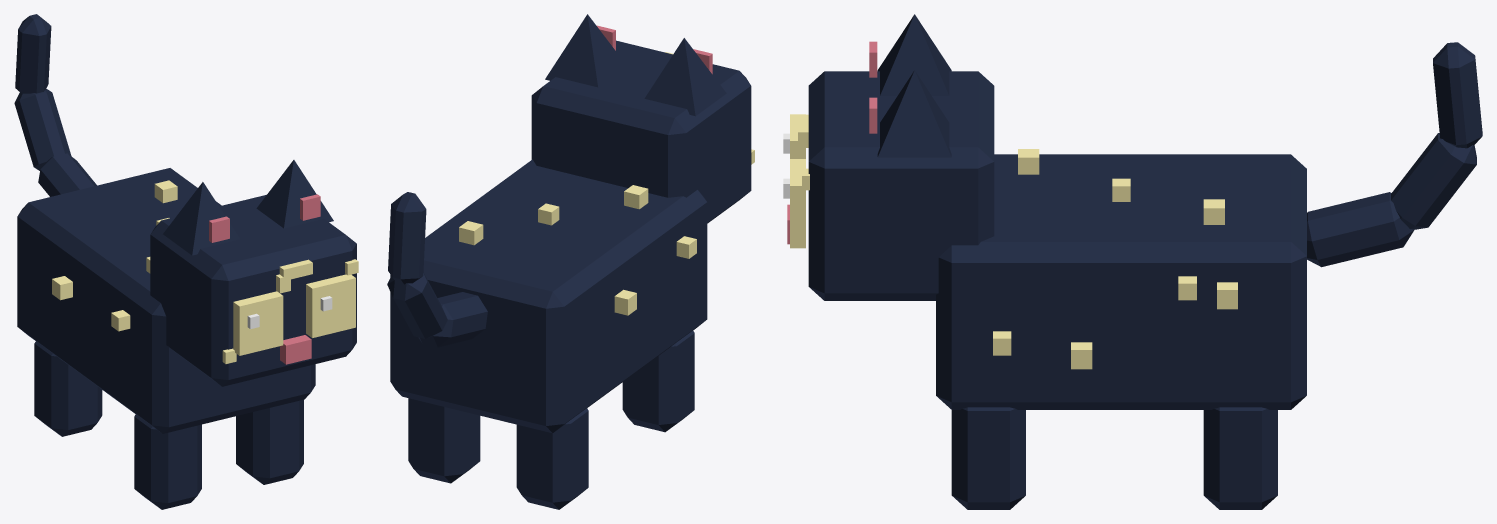
The model's file is CatCafe_Cat_Midnight.glb.
The picture shows the model from 3 angles, left to right: view 1: azimuth 30°, elevation 25°; view 2: azimuth 150°, elevation 25°; view 3: azimuth 270°, elevation 25°; orthographic projection. The views are drawn at different scales.
Parts seen in each view (by area): view 1: CatCafe_Cat_Midnight_Body, CatCafe_Cat_Midnight_Head, CatCafe_Cat_Midnight_Tail; view 2: CatCafe_Cat_Midnight_Body, CatCafe_Cat_Midnight_Head, CatCafe_Cat_Midnight_Tail; view 3: CatCafe_Cat_Midnight_Body, CatCafe_Cat_Midnight_Head, CatCafe_Cat_Midnight_Tail.
Part boxes in pixels (x1=…): CatCafe_Cat_Midnight_Body: x1=17, y1=168, x2=315, y2=509; CatCafe_Cat_Midnight_Head: x1=150, y1=160, x2=358, y2=386; CatCafe_Cat_Midnight_Tail: x1=14, y1=14, x2=96, y2=196; CatCafe_Cat_Midnight_Body: x1=390, y1=159, x2=707, y2=509; CatCafe_Cat_Midnight_Head: x1=531, y1=14, x2=754, y2=223; CatCafe_Cat_Midnight_Tail: x1=387, y1=192, x2=487, y2=347; CatCafe_Cat_Midnight_Body: x1=936, y1=149, x2=1306, y2=509; CatCafe_Cat_Midnight_Head: x1=783, y1=14, x2=994, y2=300; CatCafe_Cat_Midnight_Tail: x1=1307, y1=42, x2=1482, y2=267.
Size of the model in its own units: 1.04 by 1.78 by 2.64.
Materials: 1 (1 with a texture image).
